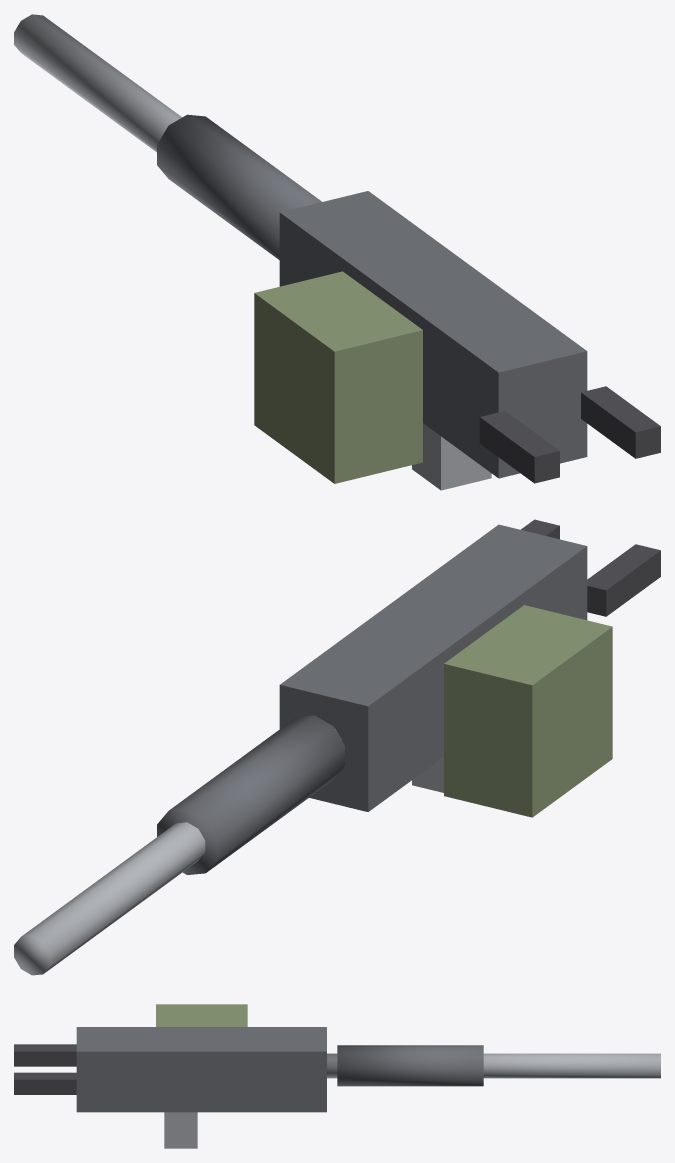
3 views of the same model, one above another, from view 1: azimuth 30°, elevation 25°; view 2: azimuth 150°, elevation 25°; view 3: azimuth 270°, elevation 25° (orthographic). The views are drawn at different scales.
Parts seen in each view (by area): view 1: mg; view 2: mg; view 3: mg.
Part boxes in pixels (x1,y1,x2,y2): mg: (14,14,660,490); mg: (14,519,660,975); mg: (14,1004,660,1148).
Bounding box in the file's own units: 0.32 × 0.27 × 1.55.
